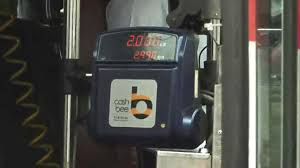terminal: (89, 27, 210, 152)
